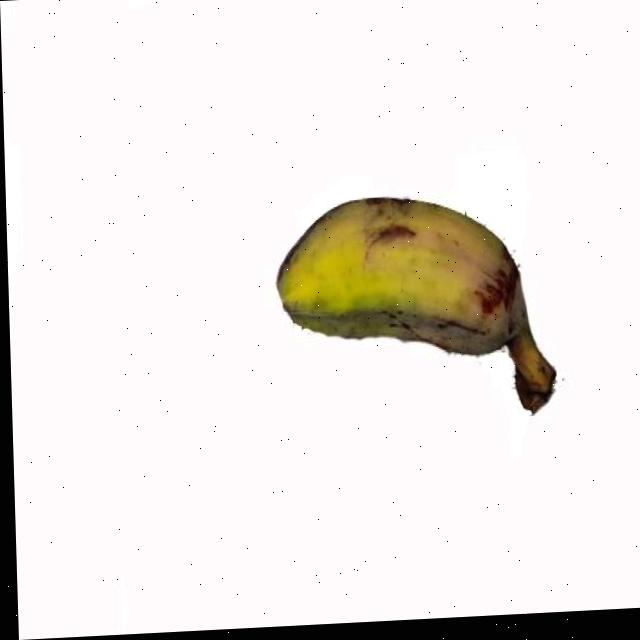banana: (271, 187, 562, 432)
